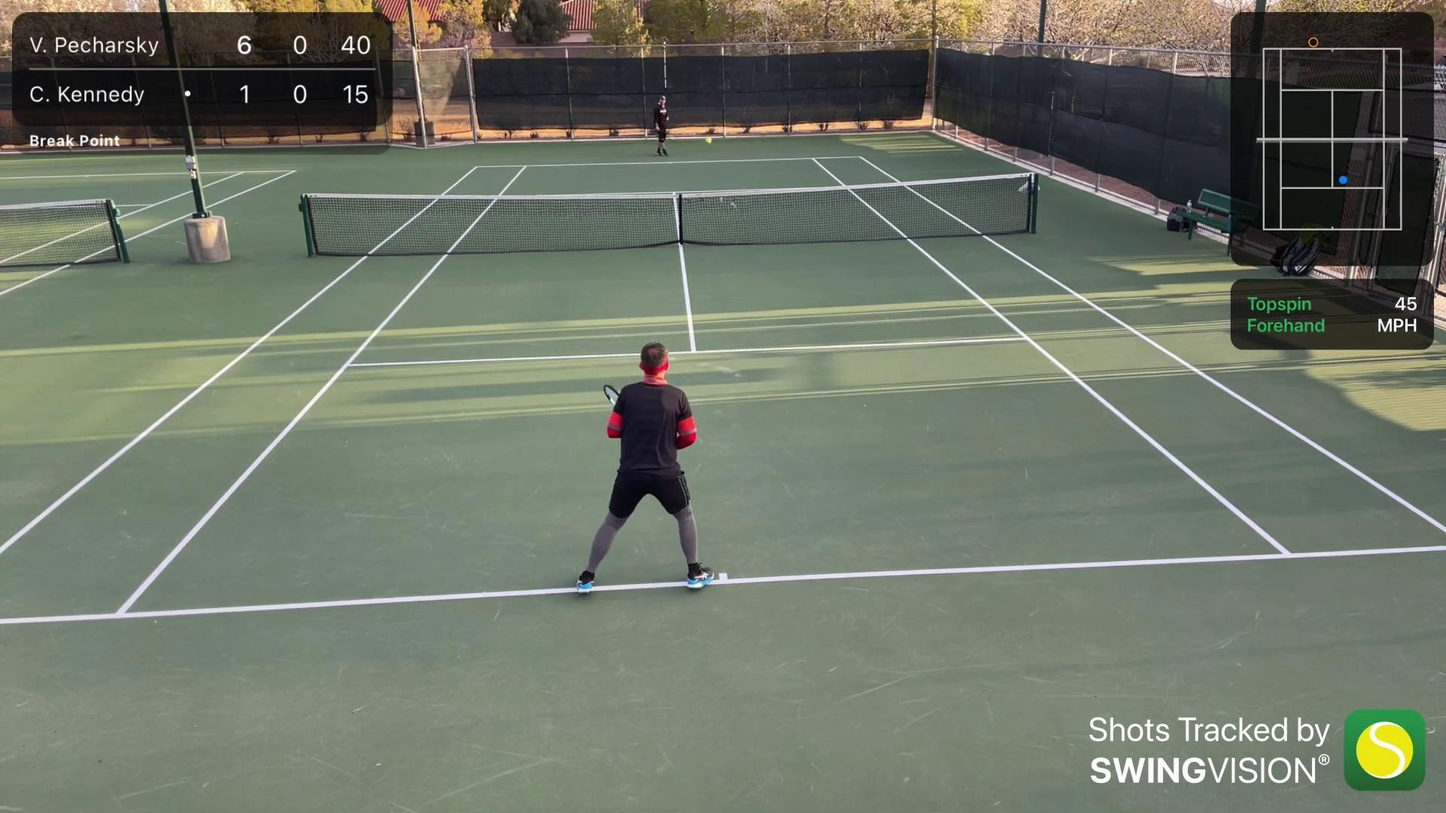ball: (703, 135, 713, 145)
